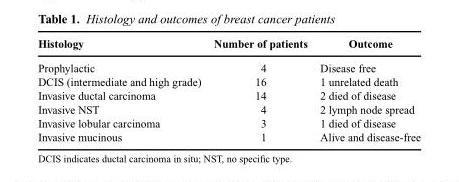table: (37, 36, 420, 142)
table column: (37, 36, 206, 142), (206, 36, 313, 142), (313, 36, 420, 142)
table column header: (37, 36, 420, 55)
table row: (37, 36, 420, 55), (37, 55, 420, 74), (37, 74, 420, 88), (37, 88, 420, 102), (37, 115, 420, 129), (37, 102, 420, 115), (37, 129, 420, 142)
